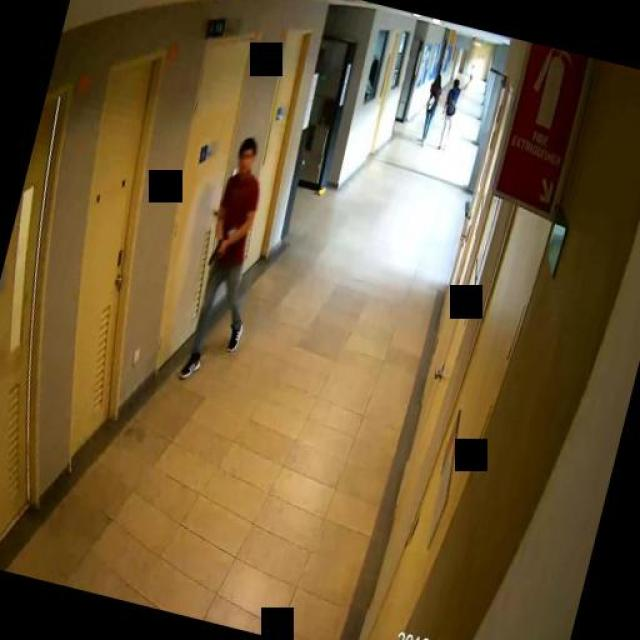gun: (206, 235, 225, 266)
